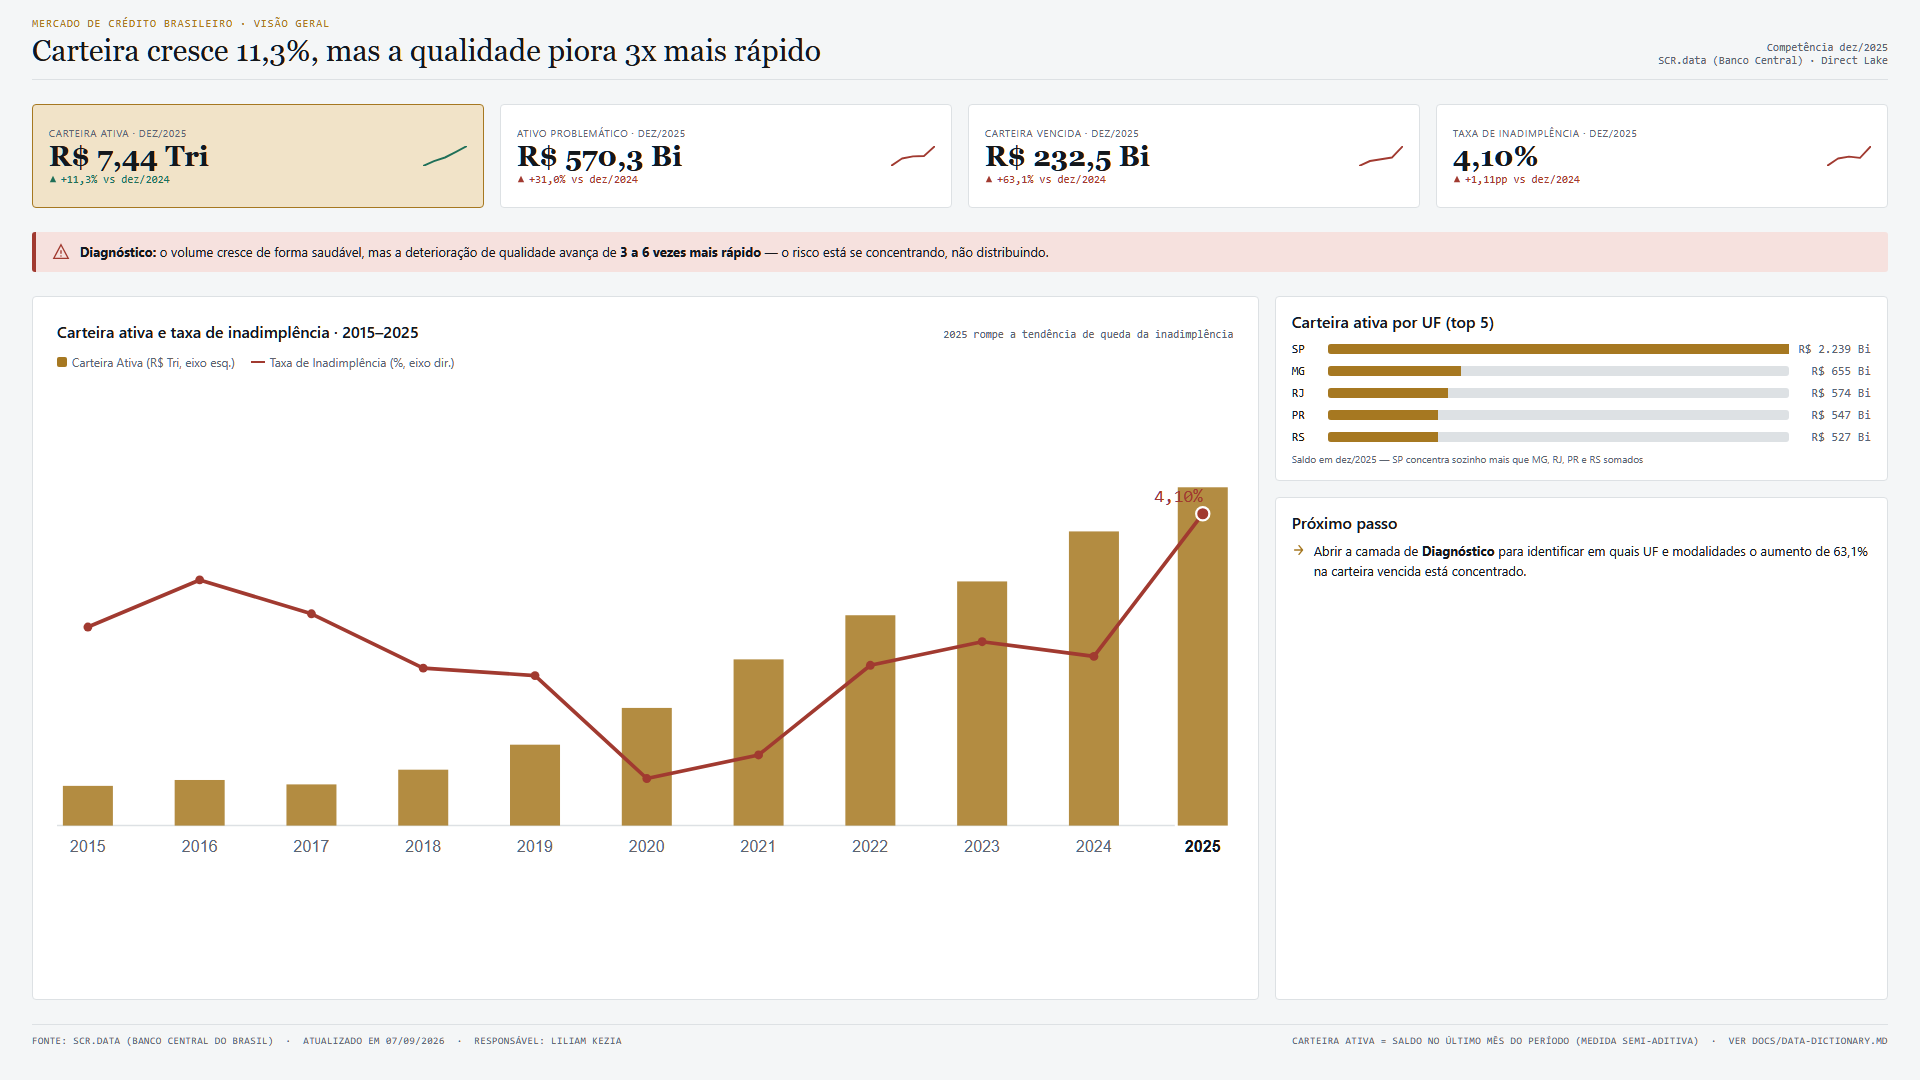

What the dashboard file says about the page in this screenshot:
{"tool":"powerbi","page":{"name":"Página 1","canvas":[1920,1080],"ordinal":0},"visuals":[{"type":"textbox","box":[32,32,1232,72],"z":0},{"type":"slicer","fields":{"Values":["dim_calendario.ano_mes"]},"box":[1279.8,31.9,295.5,72.3],"z":1000},{"type":"pageNavigator","box":[1592,32,296,72],"z":2000},{"type":"cardVisual","fields":{"Data":["fato_credito.Taxa de Inadimplência (SCR.data)"]},"box":[31.9,127.6,452.8,160],"z":3000},{"type":"cardVisual","fields":{"Data":["fato_credito.Carteira Ativa"]},"box":[499.6,127.6,452.8,160],"z":4000},{"type":"cardVisual","fields":{"Data":["fato_credito.Ativo Problemático"]},"box":[967.3,127.6,452.8,160],"z":5000},{"type":"cardVisual","fields":{"Data":["fato_credito.Taxa de Inadimplência PF"]},"box":[1435,127.6,452.8,160],"z":6000},{"type":"lineChart","fields":{"Category":["dim_calendario.data"],"Y":["fato_credito.Carteira Ativa","fato_credito.Carteira Ativa · Rótulo Ponta"]},"box":[31.9,352,1232,270],"z":7000},{"type":"lineChart","fields":{"Category":["dim_calendario.data"],"Y":["fato_credito.Taxa de Inadimplência (SCR.data)","fato_credito.Taxa de Inadimplência · Rótulo Ponta"]},"box":[32.5,622.5,1232,270],"z":8000},{"type":"textbox","box":[31.7,286.7,1233.3,65],"z":9000},{"type":"textbox","box":[32.5,912.5,1232.5,105],"z":10000},{"type":"actionButton","title":"Ver onde está concentrado","box":[1280,912.5,607.5,107.5],"z":11000},{"type":"textbox","box":[25,1020,1855,60],"z":11001},{"type":"deneb7E15AEF80B9E4D4F8E12924291ECE89A","fields":{"dataset":["dim_modalidade.modalidade","fato_credito.Taxa de Inadimplência (dez/2024)","fato_credito.Taxa de Inadimplência (dez/2025)","fato_credito.Dumbbell · Δpp Modalidade","fato_credito.Dumbbell · Elegivel (Materialidade)"]},"box":[1280,352.5,607.5,540],"z":11002}]}

Visuals, with their boxes in screenshot pixels (x1, y1, x2, y2), scaled from the page's 1920x1080 canvas onto the 1920x1080 screenshot:
textbox: <region>32, 32, 1264, 104</region>
slicer - dim_calendario.ano_mes: <region>1280, 32, 1575, 104</region>
pageNavigator: <region>1592, 32, 1888, 104</region>
cardVisual - fato_credito.Taxa de Inadimplência (SCR.data): <region>32, 128, 485, 288</region>
cardVisual - fato_credito.Carteira Ativa: <region>500, 128, 952, 288</region>
cardVisual - fato_credito.Ativo Problemático: <region>967, 128, 1420, 288</region>
cardVisual - fato_credito.Taxa de Inadimplência PF: <region>1435, 128, 1888, 288</region>
lineChart - dim_calendario.data x fato_credito.Carteira Ativa: <region>32, 352, 1264, 622</region>
lineChart - dim_calendario.data x fato_credito.Taxa de Inadimplência (SCR.data): <region>32, 622, 1264, 892</region>
textbox: <region>32, 287, 1265, 352</region>
textbox: <region>32, 912, 1265, 1018</region>
"Ver onde está concentrado" actionButton: <region>1280, 912, 1888, 1020</region>
textbox: <region>25, 1020, 1880, 1079</region>
deneb7E15AEF80B9E4D4F8E12924291ECE89A - dim_modalidade.modalidade x fato_credito.Taxa de Inadimplência (dez/2024): <region>1280, 352, 1888, 892</region>
